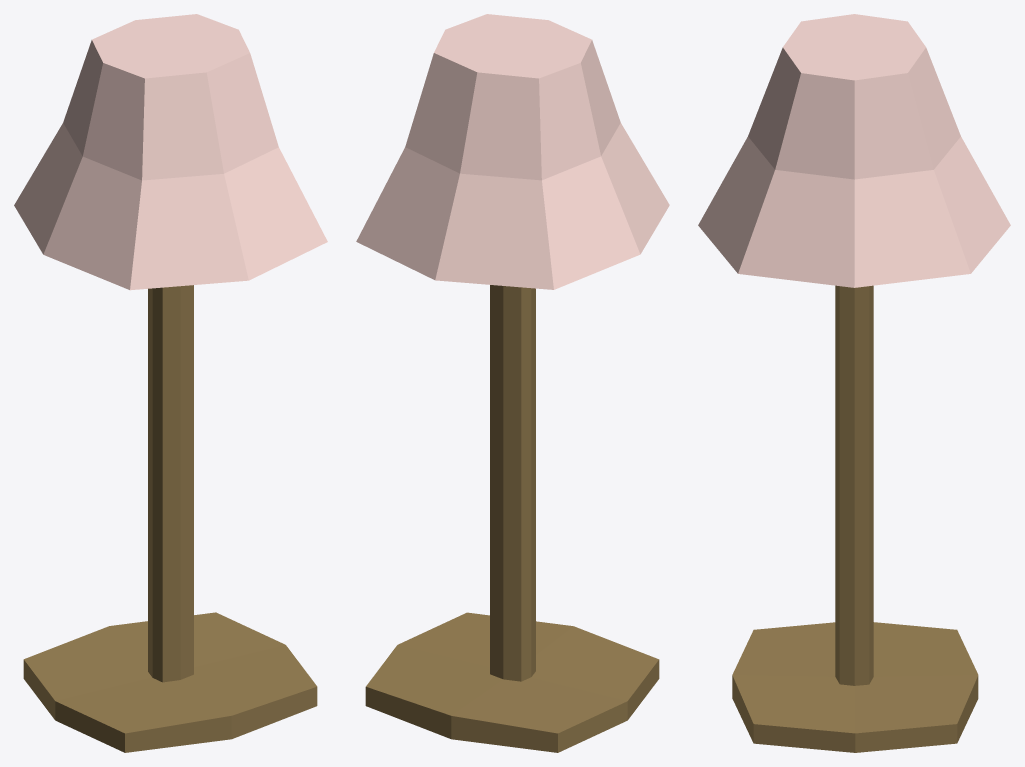
The model's file is Lamp.fbx.
3 views of the same model, side by side, from view 1: azimuth 30°, elevation 25°; view 2: azimuth 150°, elevation 25°; view 3: azimuth 270°, elevation 25° (orthographic).
Parts seen in each view (by area): view 1: Cube.007, Cube.004, Cube.006; view 2: Cube.007, Cube.004, Cube.006; view 3: Cube.007, Cube.004, Cube.006.
Part boxes in pixels (x1,y1,x2,y2): Cube.007: (14, 14, 327, 290); Cube.004: (23, 612, 317, 752); Cube.006: (148, 285, 193, 682); Cube.007: (356, 14, 669, 289); Cube.004: (365, 612, 659, 752); Cube.006: (490, 285, 535, 681); Cube.007: (698, 14, 1010, 287); Cube.004: (732, 622, 978, 752); Cube.006: (835, 285, 873, 685).
Bounding box in the file's own units: 170 × 414 × 180.
